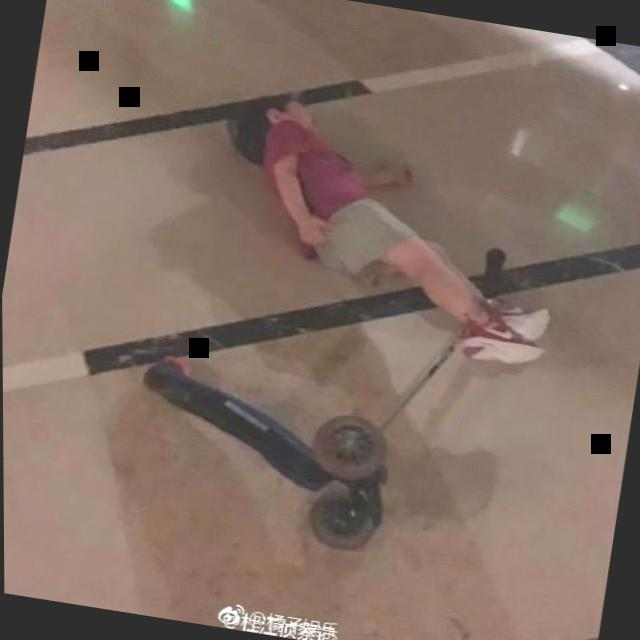Fall-Detected: (189, 78, 581, 368)
